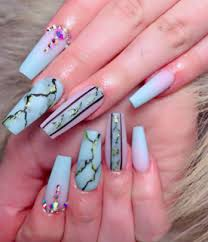nail: (40, 84, 105, 140), (3, 78, 64, 135), (18, 27, 66, 80), (131, 69, 176, 107), (75, 128, 101, 191), (45, 155, 72, 214), (105, 112, 128, 172), (131, 124, 151, 174)
